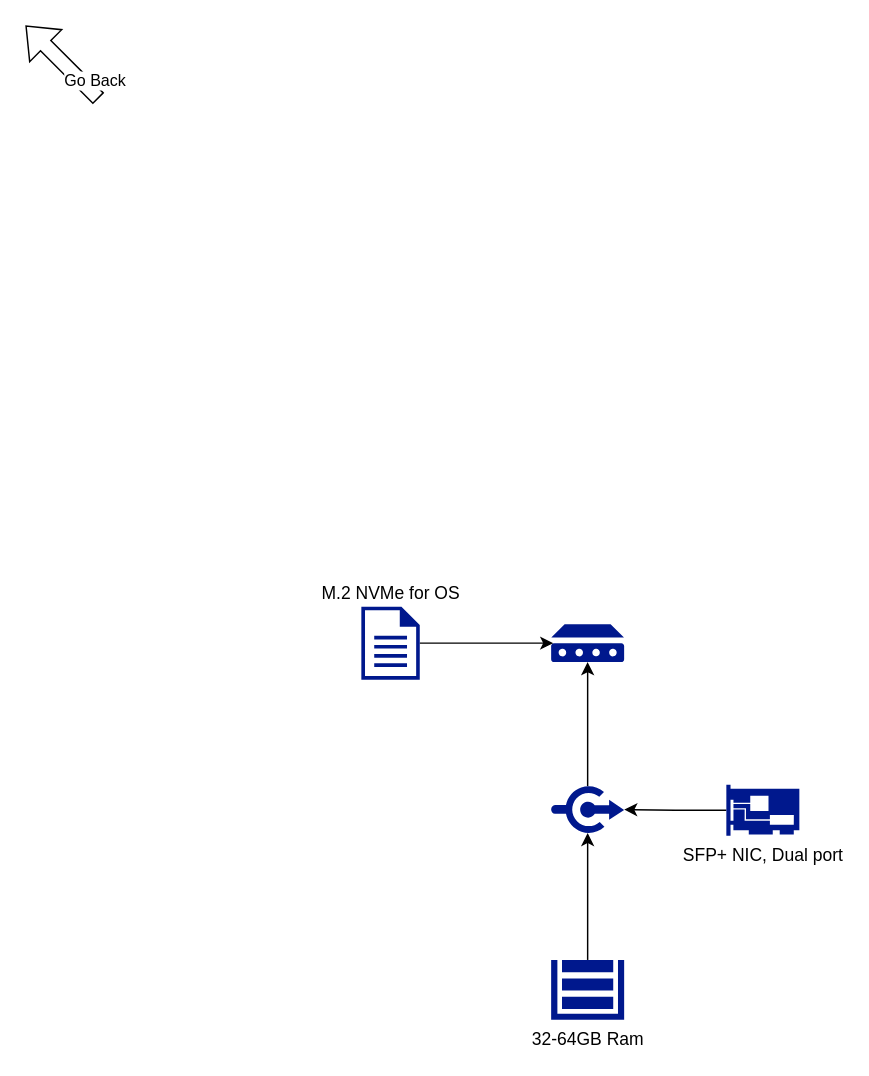
Some shapes in this 869 by 1076 pixel diagram are drawn without their labels. Each missing label, with the centre of its shape:
"i5-11400" belongs at [586,809].
"mITX/mATX 2U Chassis" belongs at [586,642].
